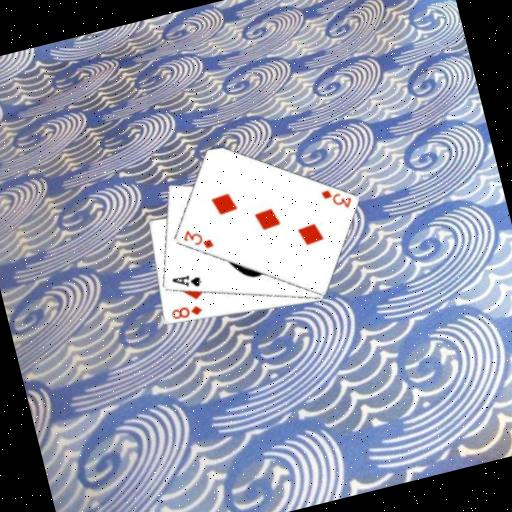3D: (178, 222, 216, 256), (318, 182, 355, 215)
8D: (167, 300, 205, 323)
AS: (168, 269, 204, 295)
